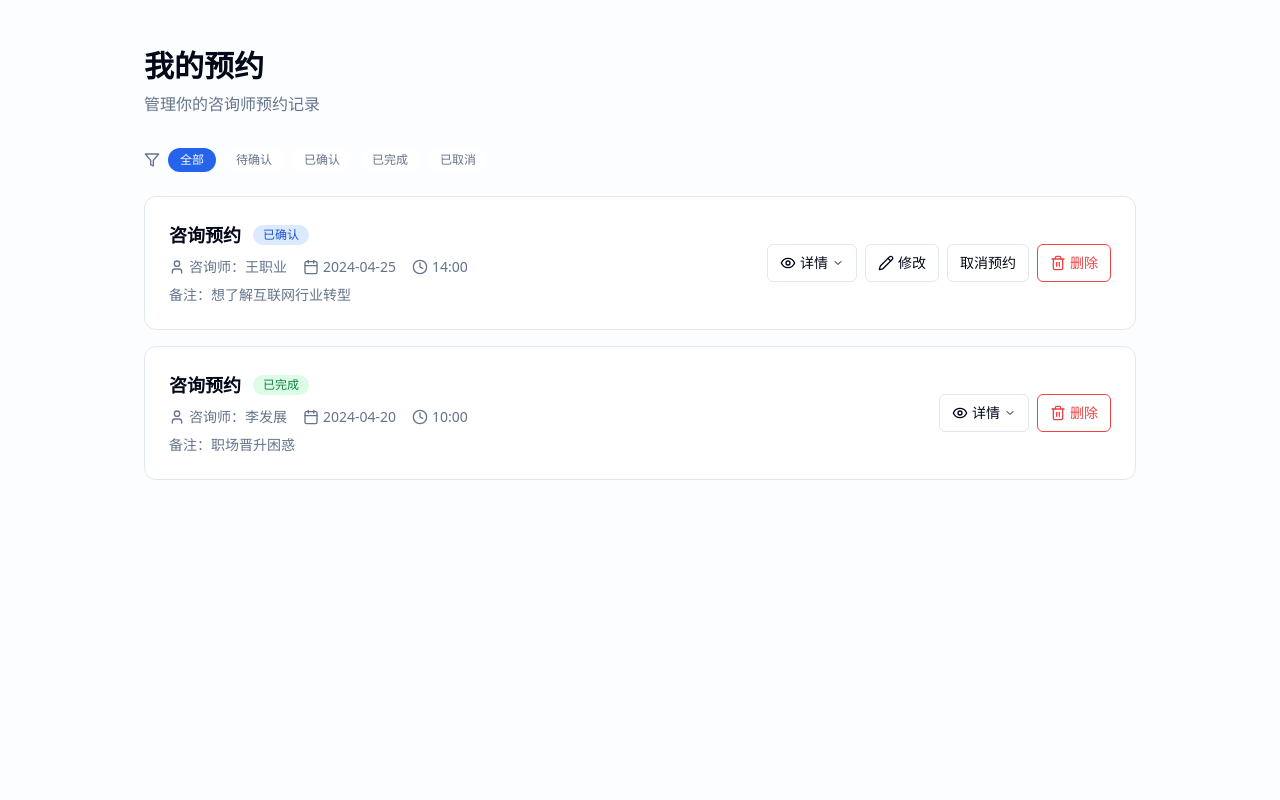
Scenario: Appointments Page › opens edit modal when clicking edit button
The image size is (1280, 800).
Click the button "修改".
click(902, 263)  # box top-left (865, 244), bottom-right (939, 282)
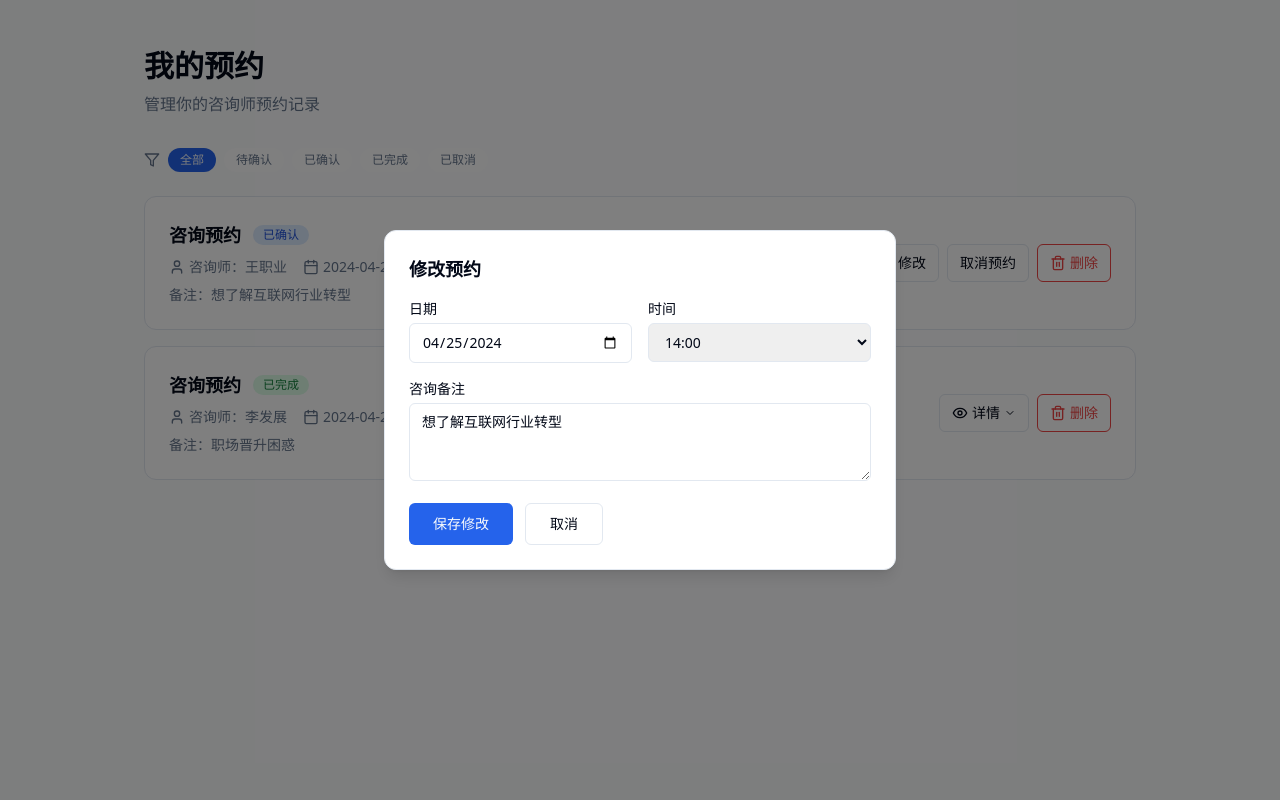
Expected: the heading "修改预约" is shown, top-left (409, 257), bottom-right (481, 281)
Expected: the date field labelled "日期" is shown, top-left (409, 323), bottom-right (632, 363)
Expected: the dropdown labelled "时间" is shown, top-left (648, 323), bottom-right (871, 362)
